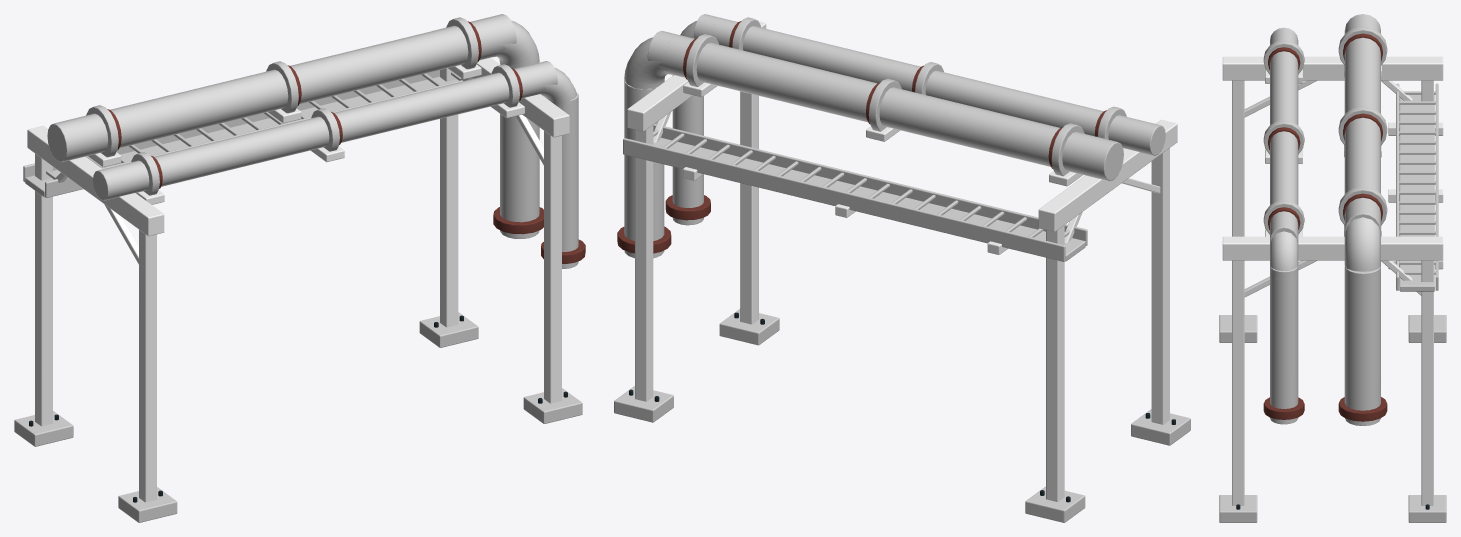
The model's file is B07_PIPE_RACK.glb.
3 renders of one model, left to right at view 1: azimuth 30°, elevation 25°; view 2: azimuth 150°, elevation 25°; view 3: azimuth 270°, elevation 25°, orthographic. The views are drawn at different scales.
Visible parts, largest first — view 1: B07_PIPE_RACK; view 2: B07_PIPE_RACK; view 3: B07_PIPE_RACK.
Boxes of the visible parts, x1,y1,x2,y2 form: B07_PIPE_RACK: (14, 14, 585, 522); B07_PIPE_RACK: (614, 14, 1190, 522); B07_PIPE_RACK: (1219, 14, 1446, 522).
Size of the model in its own units: 6.48 by 4.43 by 2.88.
